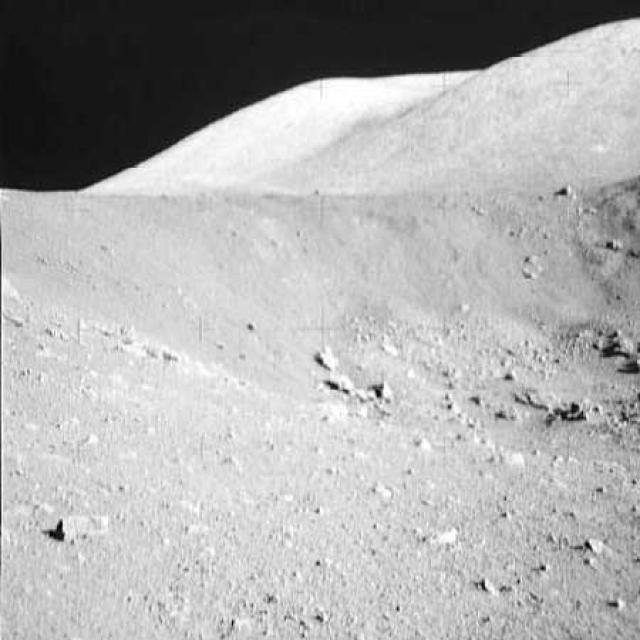crater: (12, 182, 638, 457)
rock: (59, 511, 119, 542), (608, 327, 636, 364), (312, 377, 355, 395), (308, 350, 340, 372), (602, 234, 629, 252), (380, 376, 396, 406), (355, 387, 376, 406), (555, 182, 574, 198)
